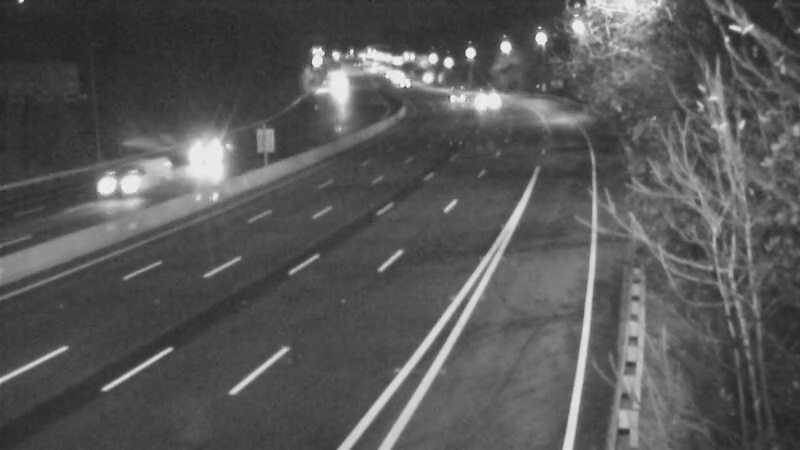vehicle: (86, 142, 166, 222), (164, 116, 244, 196), (428, 75, 478, 125), (459, 73, 509, 123)
